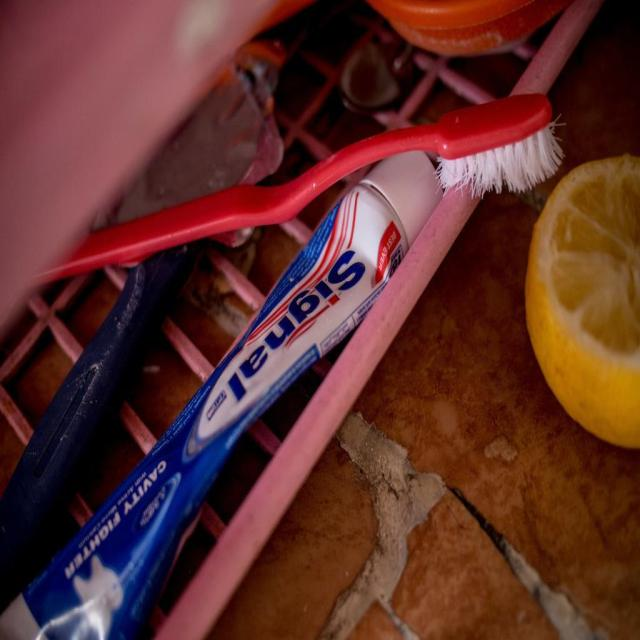Toothpaste: (2, 136, 450, 639)
